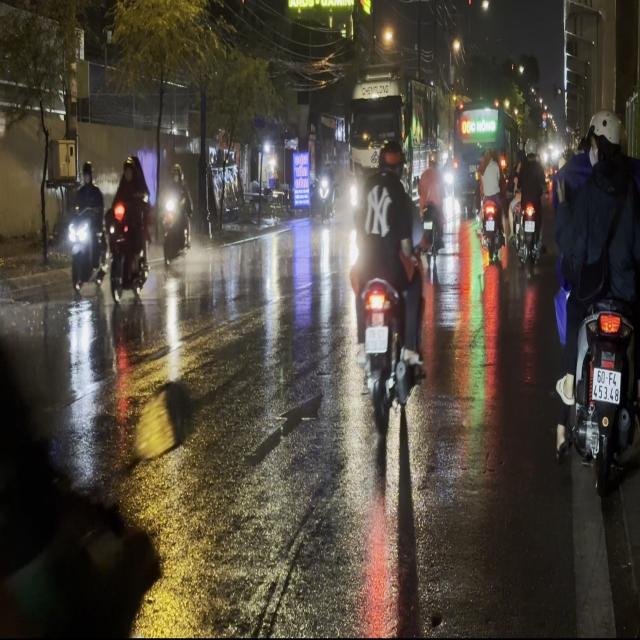helmet: (587, 109, 624, 167), (376, 133, 404, 181)
licenseplate: (551, 99, 640, 493), (347, 128, 425, 448)
nohelmet: (592, 367, 621, 403), (364, 326, 388, 352)
